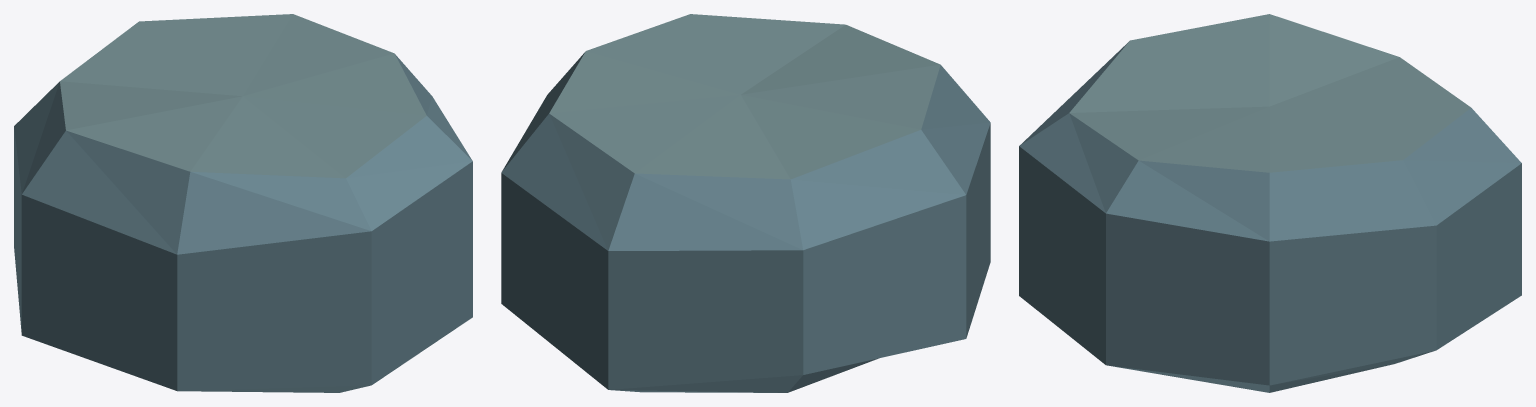
The model's file is rock0.glb.
3 views of the same model, side by side, from view 1: azimuth 30°, elevation 25°; view 2: azimuth 150°, elevation 25°; view 3: azimuth 270°, elevation 25° (orthographic). The views are drawn at different scales.
Visible parts, largest first — view 1: rock0; view 2: rock0; view 3: rock0.
Part boxes in pixels (x1,y1,x2,y2): rock0: (14, 14, 472, 392); rock0: (501, 14, 990, 392); rock0: (1019, 14, 1521, 392).
Size of the model in its own units: 1.99 by 1.09 by 2.17.
